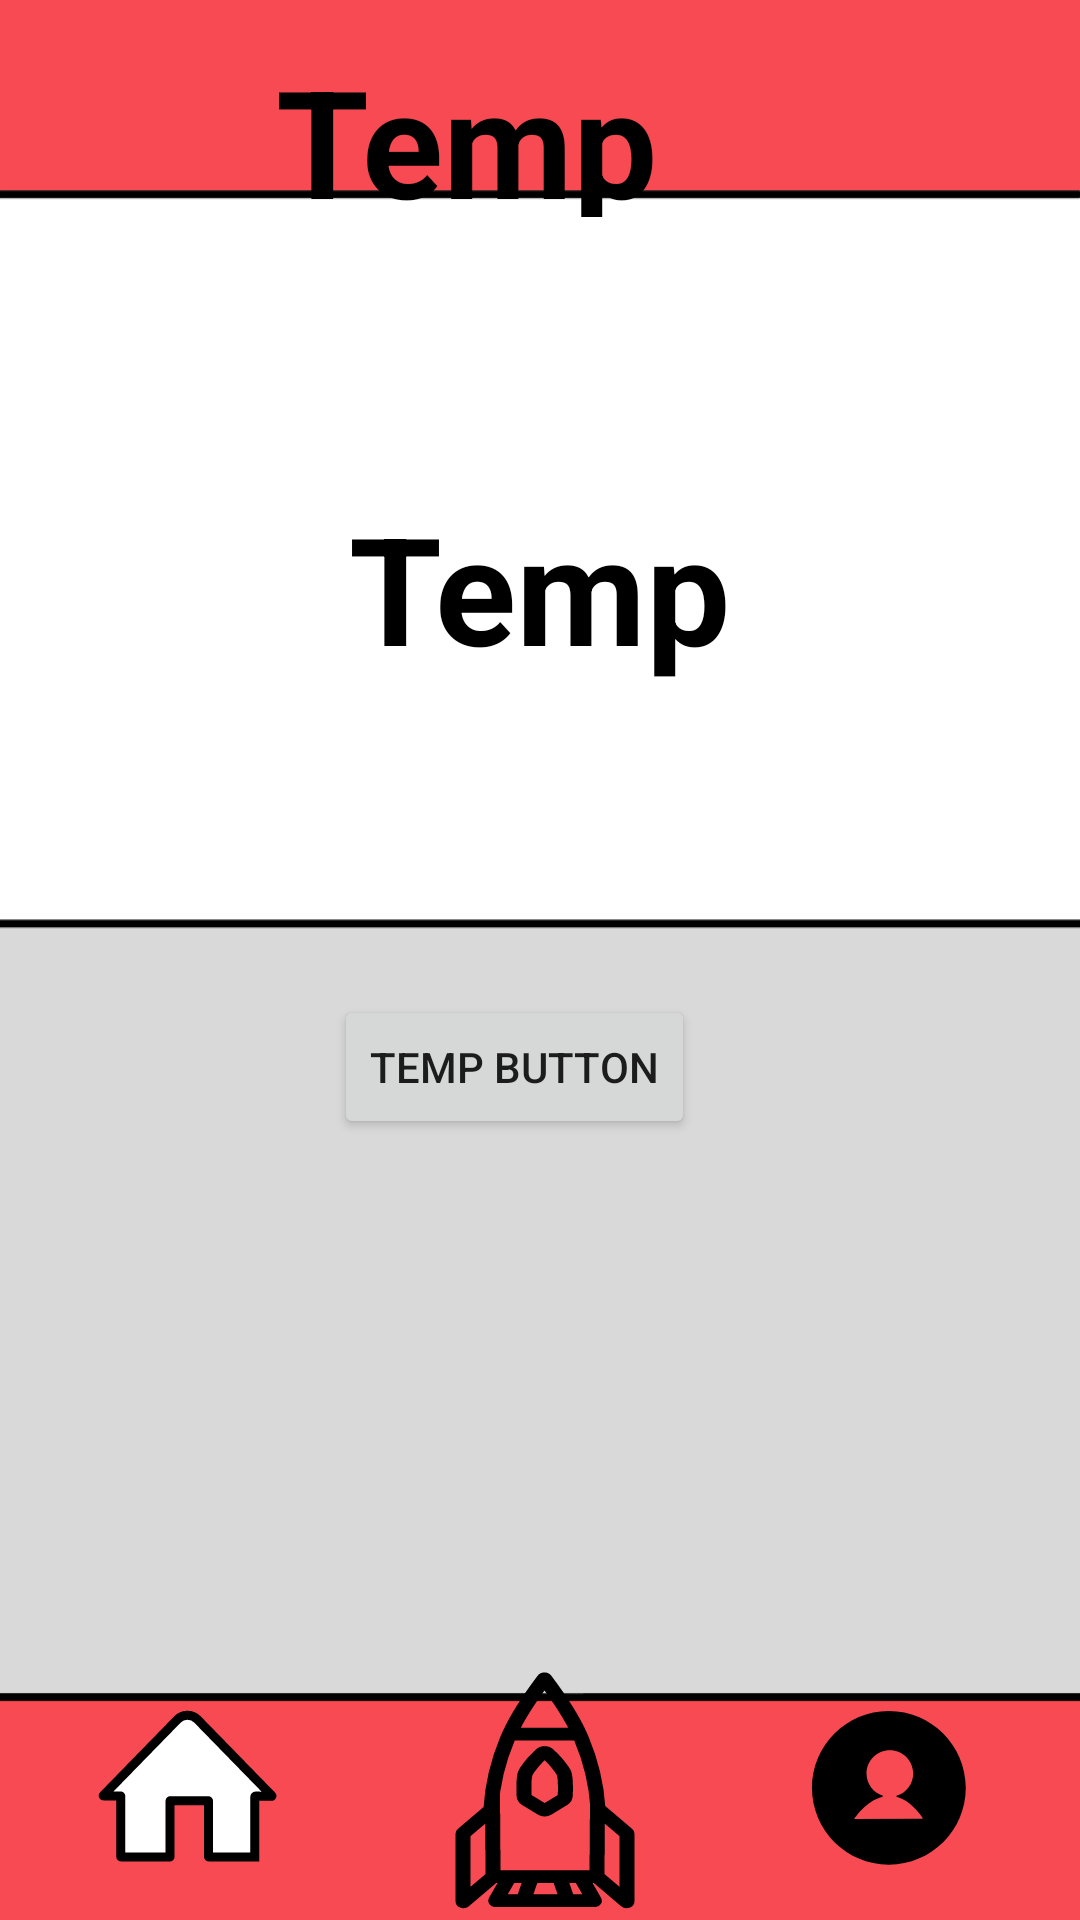

Named icons in this screenshot (1080px x 1920px) and their centers, point (x, y):
home icon: point (187, 1786)
Profile Icon: point (889, 1788)
Rocket icon: point (540, 1792)
